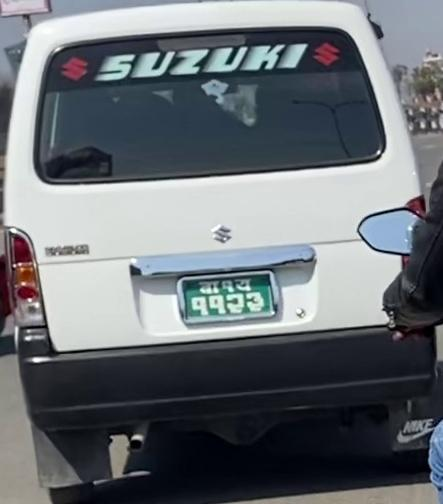license-plate: (171, 272, 287, 327)
